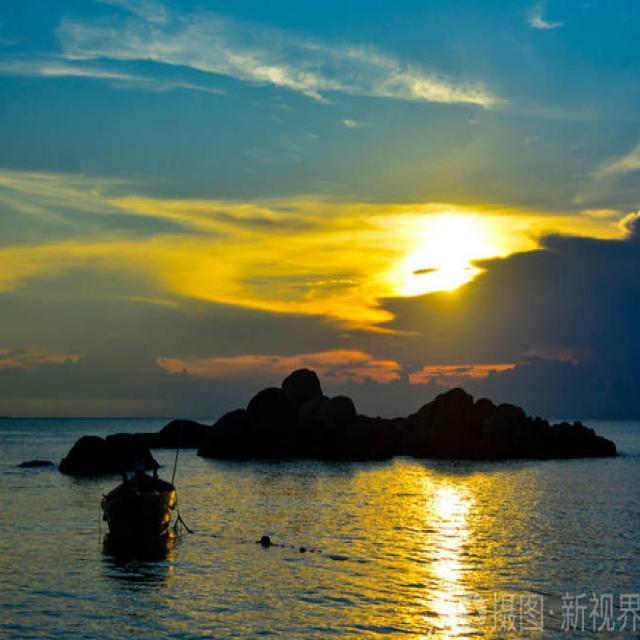island: (57, 359, 632, 483)
